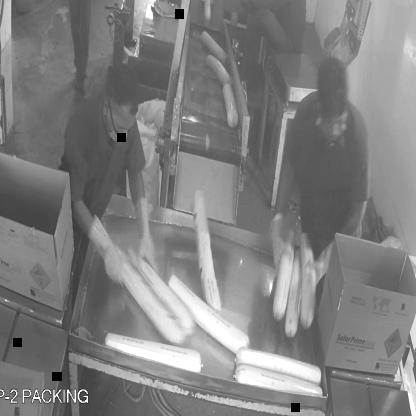glove: (84, 209, 134, 296), (123, 185, 161, 278), (268, 210, 297, 283), (310, 236, 341, 292)
